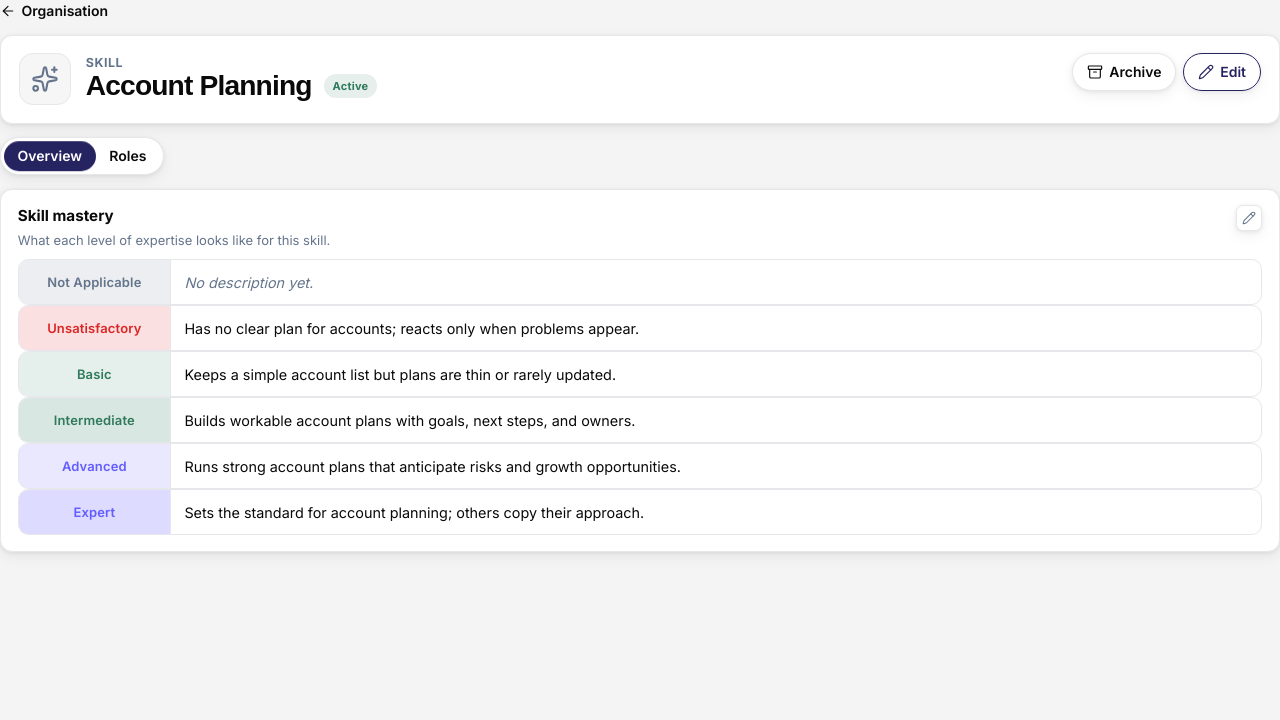
Test: SkillsLibrary › opens edit page from the skill detail
Check: the heading "Account Planning" is shown, box [86,71,312,102]
Click the link "Edit": click(1222, 72) [1183,53,1261,91]
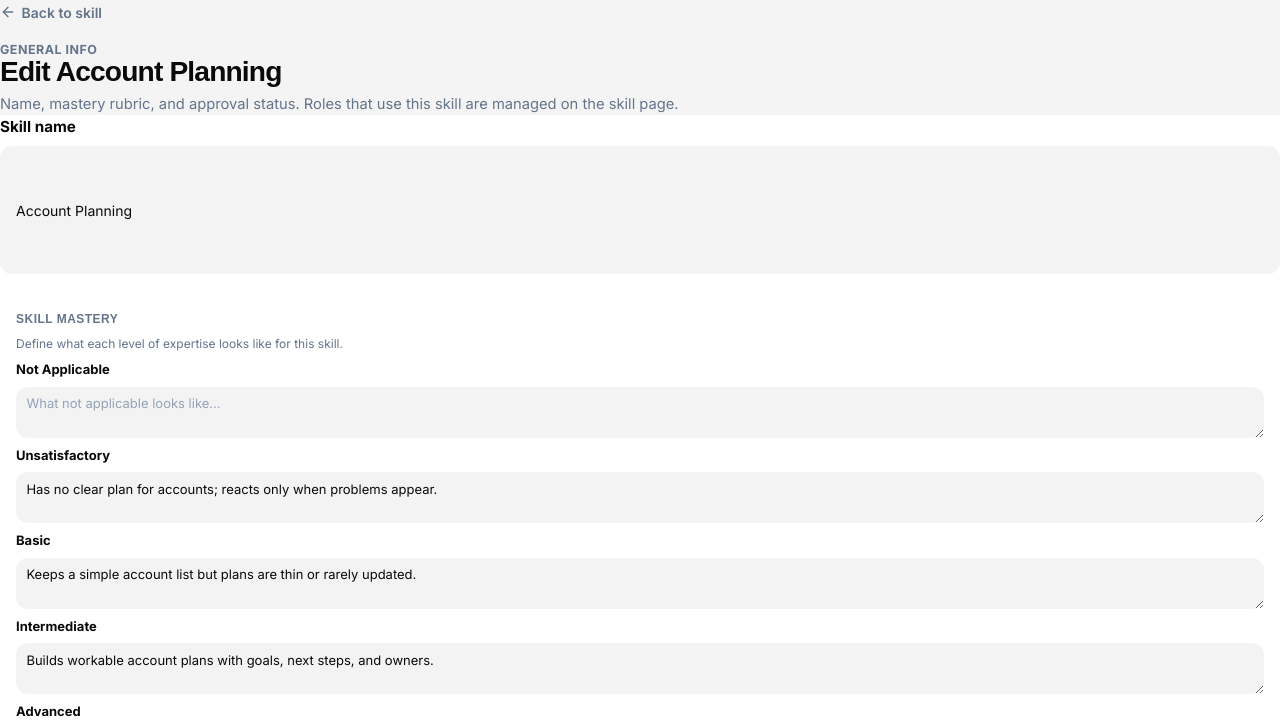
Check: the field labelled "Skill name" holds "Account Planning", box [0,146,1279,274]
